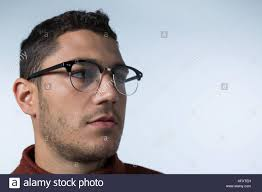Glasses: (26, 55, 145, 105)
